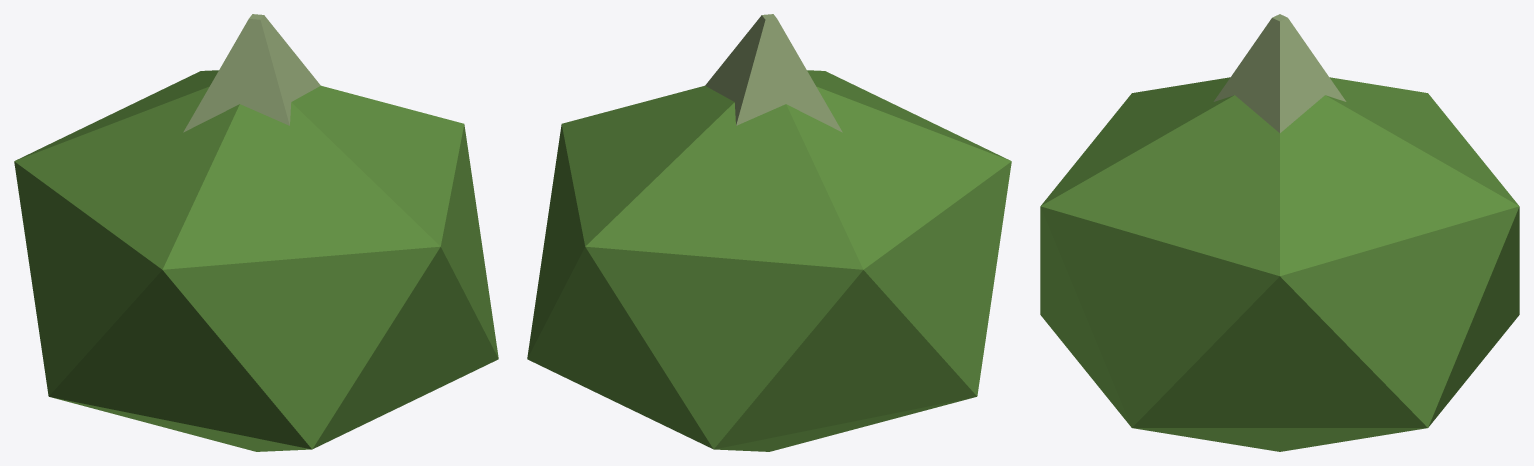
Rendered from CactusSeed.fbx.
The picture shows the model from 3 angles, left to right: view 1: azimuth 30°, elevation 25°; view 2: azimuth 150°, elevation 25°; view 3: azimuth 270°, elevation 25°; orthographic projection.
Parts seen in each view (by area): view 1: CactusSeed; view 2: CactusSeed; view 3: CactusSeed.
Boxes of the visible parts, x1=… form: CactusSeed: x1=14, y1=14, x2=498, y2=451; CactusSeed: x1=527, y1=14, x2=1011, y2=451; CactusSeed: x1=1040, y1=14, x2=1519, y2=451.
Bounding box in the file's own units: 0.6 × 0.6 × 0.6.
